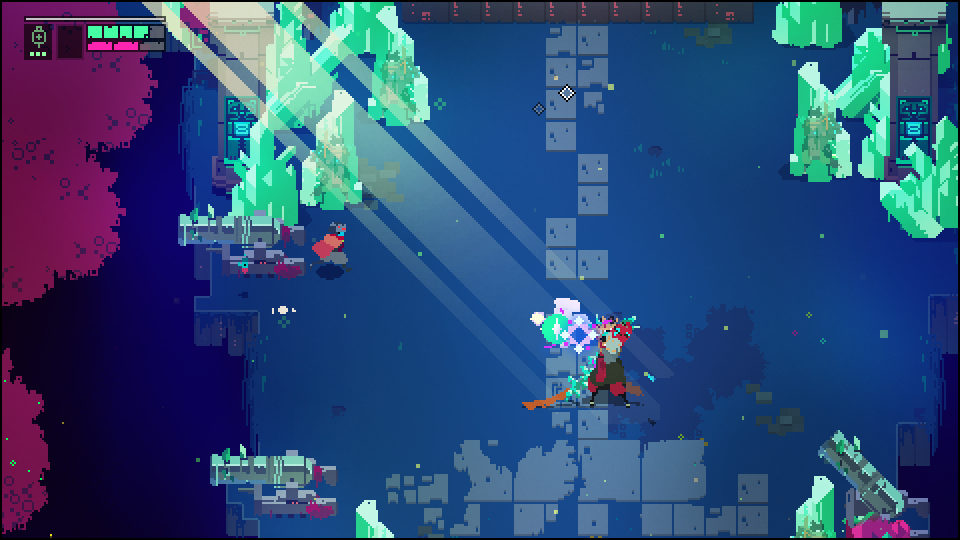hanged_man: (557, 309, 637, 409)
hanged_shot: (545, 314, 569, 346)
player: (311, 222, 349, 271)
